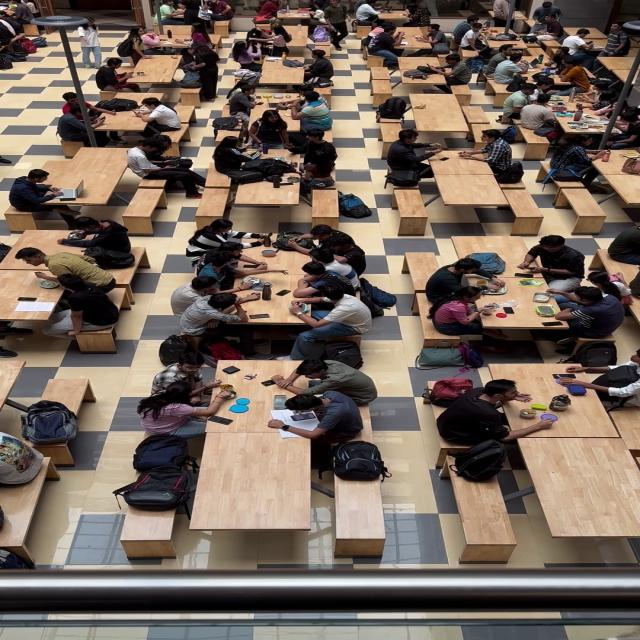Occupied: (437, 380, 551, 448), (214, 356, 311, 432), (135, 380, 228, 441), (267, 389, 366, 445), (18, 247, 119, 297), (124, 138, 204, 198), (515, 104, 597, 158), (227, 285, 332, 326), (199, 358, 331, 389), (8, 167, 89, 216), (564, 350, 640, 402), (546, 135, 612, 194), (294, 357, 382, 401), (196, 248, 282, 291), (424, 258, 498, 305), (169, 274, 251, 316), (3, 230, 110, 262), (186, 218, 272, 257), (486, 364, 607, 391), (518, 236, 586, 284), (549, 284, 623, 327), (62, 92, 122, 145), (292, 284, 371, 324), (471, 300, 576, 330), (142, 383, 206, 431), (385, 128, 442, 181), (283, 224, 366, 260), (294, 394, 364, 436), (0, 272, 69, 314), (212, 135, 271, 183), (8, 170, 71, 214), (60, 218, 134, 255), (461, 128, 515, 176), (293, 260, 356, 300), (116, 57, 180, 95), (432, 297, 494, 335), (290, 130, 338, 176), (134, 98, 181, 139), (427, 54, 476, 93), (247, 110, 291, 153), (288, 93, 333, 133), (0, 6, 35, 57), (153, 356, 207, 388), (502, 83, 544, 124), (94, 58, 140, 93), (246, 22, 289, 59), (152, 366, 204, 396), (174, 44, 210, 87), (191, 52, 220, 102), (586, 271, 631, 303), (122, 27, 163, 62), (558, 29, 594, 67), (405, 24, 457, 50), (227, 84, 263, 120), (367, 31, 402, 68), (299, 51, 334, 88), (491, 54, 531, 86), (321, 0, 350, 44), (600, 23, 633, 58), (232, 39, 268, 69), (158, 334, 192, 364), (558, 64, 592, 93), (452, 16, 483, 47), (156, 0, 185, 33), (532, 16, 566, 44), (532, 2, 562, 27), (354, 0, 382, 26), (12, 0, 36, 28), (491, 0, 515, 28), (202, 0, 233, 21), (254, 0, 279, 22), (376, 11, 410, 25)
Unoccupied: (517, 436, 640, 539), (199, 432, 312, 532), (455, 481, 518, 563), (331, 481, 387, 560), (1, 478, 47, 568), (583, 149, 639, 222), (117, 498, 180, 560), (407, 93, 472, 142), (428, 172, 511, 208), (232, 178, 302, 219), (434, 175, 512, 207), (605, 394, 640, 460), (555, 187, 605, 231), (499, 188, 547, 233), (120, 188, 167, 232), (58, 147, 133, 172), (39, 378, 94, 412), (255, 58, 308, 90), (392, 188, 428, 233), (404, 252, 442, 293), (194, 188, 232, 226), (392, 188, 434, 222), (412, 110, 471, 132), (596, 56, 638, 84), (310, 188, 340, 226), (507, 191, 543, 220), (460, 105, 491, 136), (408, 91, 461, 109), (174, 105, 197, 132), (221, 102, 251, 121), (380, 121, 404, 143), (178, 86, 202, 104), (473, 124, 495, 142)
